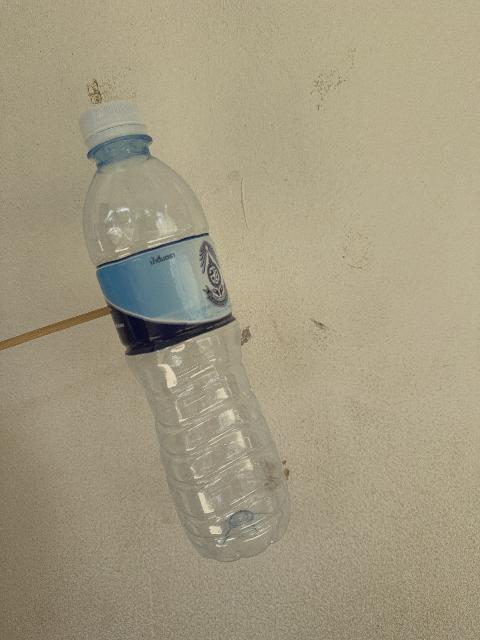bottle: (80, 101, 289, 561)
